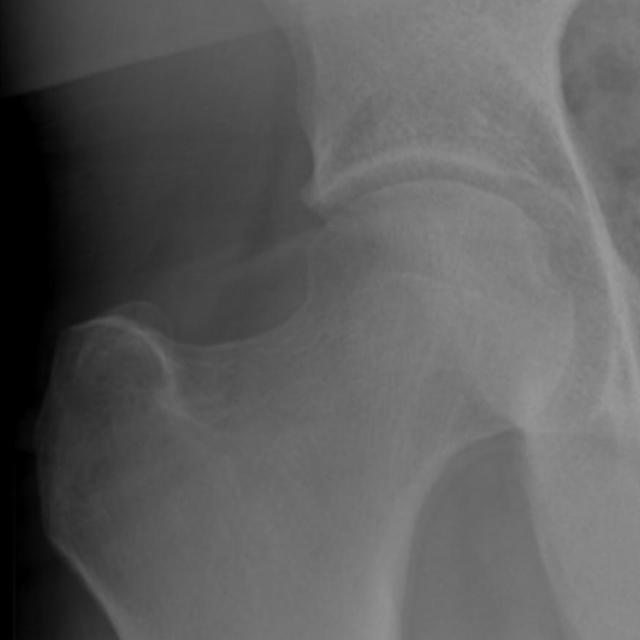Fitted_femural_head: (283, 181, 432, 283)
